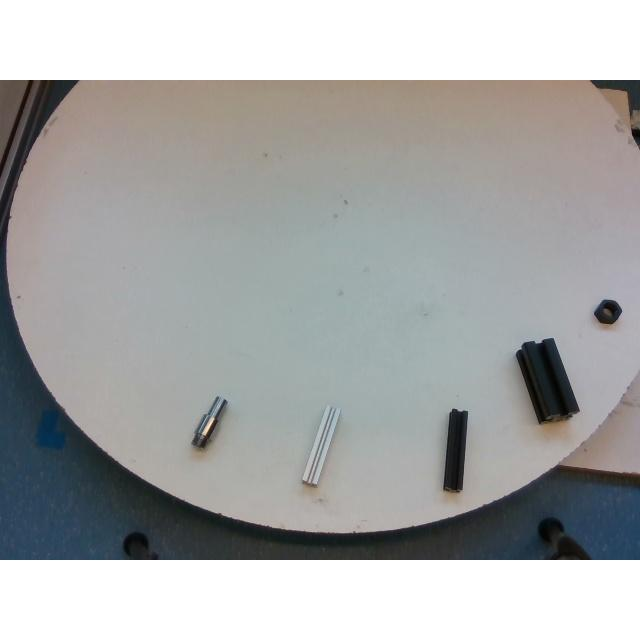Axis2: (190, 396, 230, 450)
F20_20_B: (444, 410, 468, 494)
F20_20_G: (300, 406, 340, 486)
M20: (593, 299, 623, 325)
S40_40_B: (516, 338, 580, 427)
